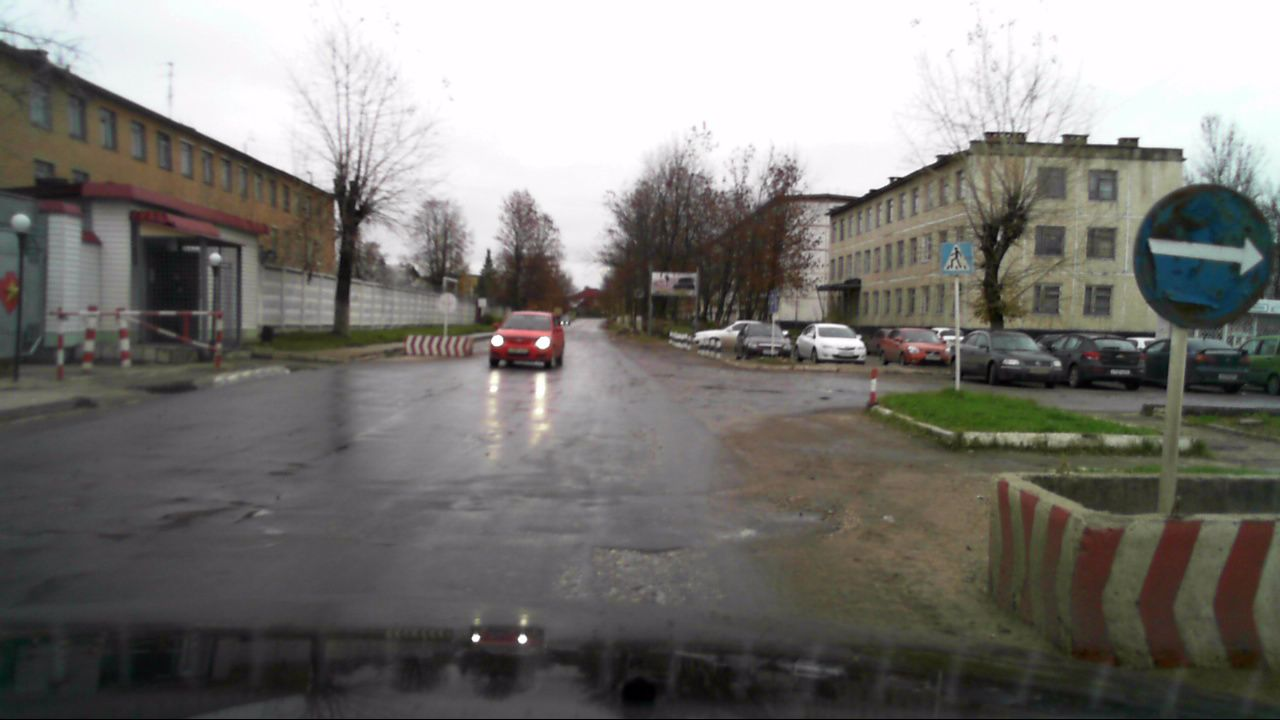Turn Right: (1133, 183, 1274, 328)
